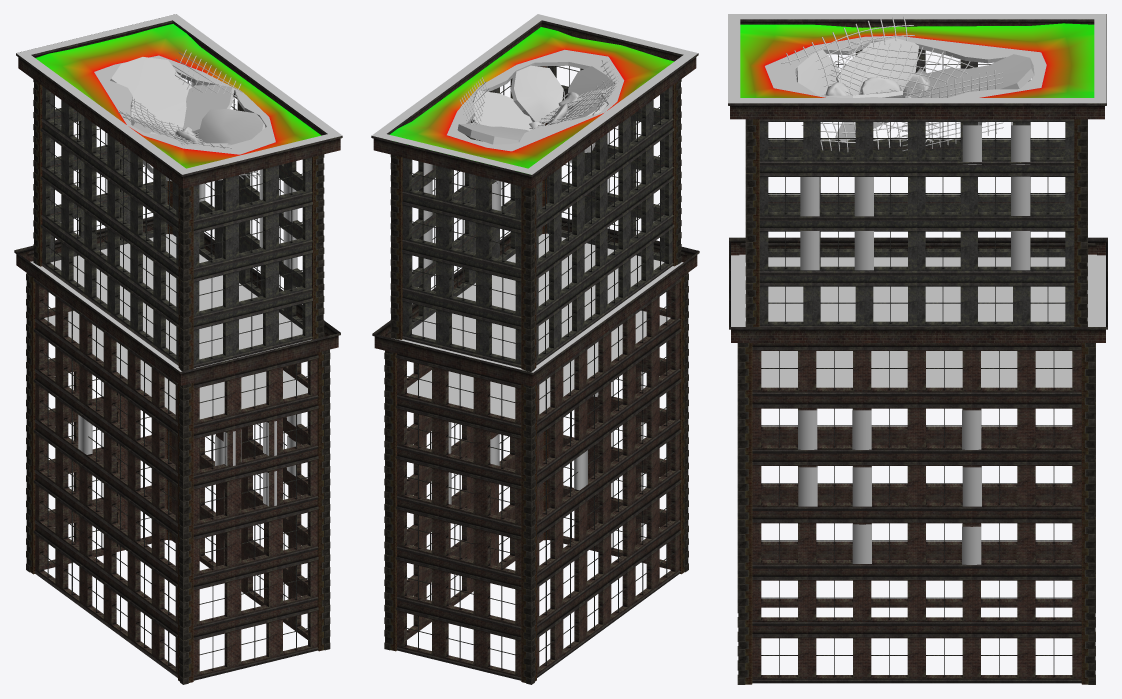
File: BuildingGreyBig02.fbx
3 views of the same model, side by side, from view 1: azimuth 30°, elevation 25°; view 2: azimuth 150°, elevation 25°; view 3: azimuth 270°, elevation 25° (orthographic). The views are drawn at different scales.
Parts seen in each view (by area): view 1: Cube.688, Cube.691, Cube.689, Cube.690, Cube.775, Cube.776, Cube.795, Plane.116, Cube.777, Cube.779, Cube.771; view 2: Cube.688, Cube.691, Cube.690, Cube.775, Cube.689, Cube.776, Cube.795, Plane.116, Cube.779, Cube.777; view 3: Cube.688, Cube.691, Cube.690, Cube.775, Cube.776, Cube.795, Cube.689, Plane.116, Cube.779, Cube.778, Cube.777, Cube.764 (+15 smaller).
Boxes of the visible parts, x1,y1,x2,y2 form: Cube.688: (33, 278, 318, 680); Cube.691: (33, 79, 324, 371); Cube.689: (26, 273, 330, 684); Cube.690: (14, 216, 340, 385); Cube.775: (16, 14, 342, 188); Cube.776: (94, 55, 275, 181); Cube.795: (35, 24, 321, 168); Plane.116: (44, 311, 307, 419); Cube.777: (172, 49, 241, 136); Cube.779: (130, 99, 205, 143); Cube.771: (78, 415, 92, 454); Cube.688: (396, 278, 681, 680); Cube.691: (390, 66, 681, 371); Cube.690: (372, 217, 699, 386); Cube.775: (371, 14, 698, 188); Cube.689: (384, 273, 688, 684); Cube.776: (447, 49, 624, 174); Cube.795: (389, 27, 674, 168); Plane.116: (407, 310, 670, 418); Cube.779: (529, 88, 606, 130); Cube.777: (459, 77, 499, 183); Cube.688: (745, 343, 1081, 683); Cube.691: (745, 49, 1087, 326); Cube.690: (729, 237, 1107, 342); Cube.775: (728, 14, 1106, 119); Cube.776: (765, 35, 1046, 141); Cube.795: (740, 23, 1094, 97); Cube.689: (737, 343, 1095, 684); Plane.116: (761, 351, 1072, 387); Cube.779: (830, 38, 974, 142); Cube.778: (781, 16, 936, 152); Cube.777: (901, 70, 1003, 151); Cube.764: (962, 408, 981, 449).
Size of what is drawn, in the model's own units: 1372 by 4246 by 2445.
